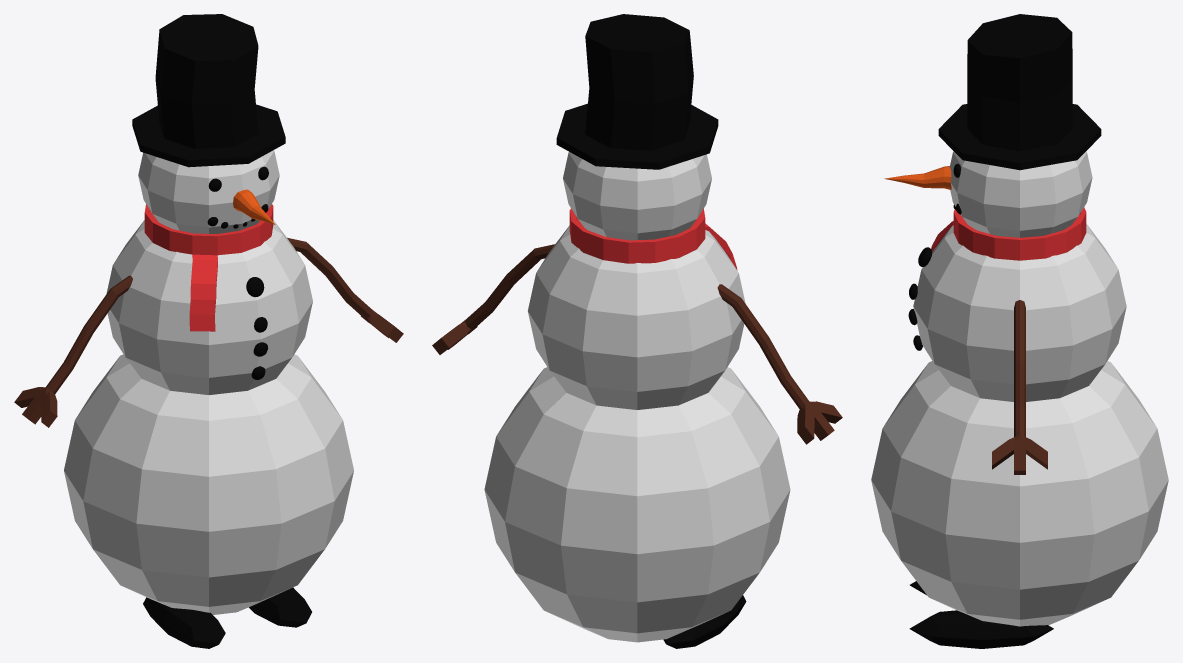
Rendered from snowman_run.fbx.
The picture shows the model from 3 angles, left to right: view 1: azimuth 30°, elevation 25°; view 2: azimuth 150°, elevation 25°; view 3: azimuth 270°, elevation 25°; orthographic projection. The views are drawn at different scales.
Parts seen in each view (by area): view 1: cнеговик_lp.001; view 2: cнеговик_lp.001; view 3: cнеговик_lp.001.
Boxes of the visible parts, x1,y1,x2,y2 form: cнеговик_lp.001: (14,14,403,648); cнеговик_lp.001: (432,14,842,648); cнеговик_lp.001: (871,14,1168,648).
Size of the model in its own units: 138 by 207 by 94.34.
